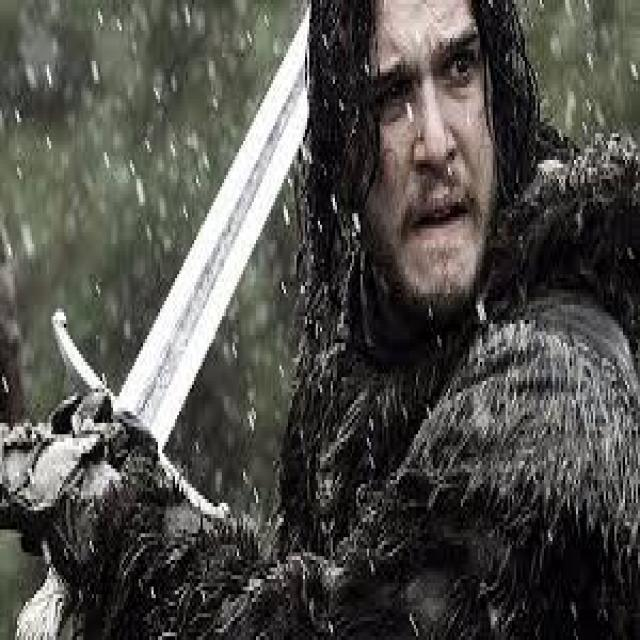long sword: (8, 16, 308, 638)
